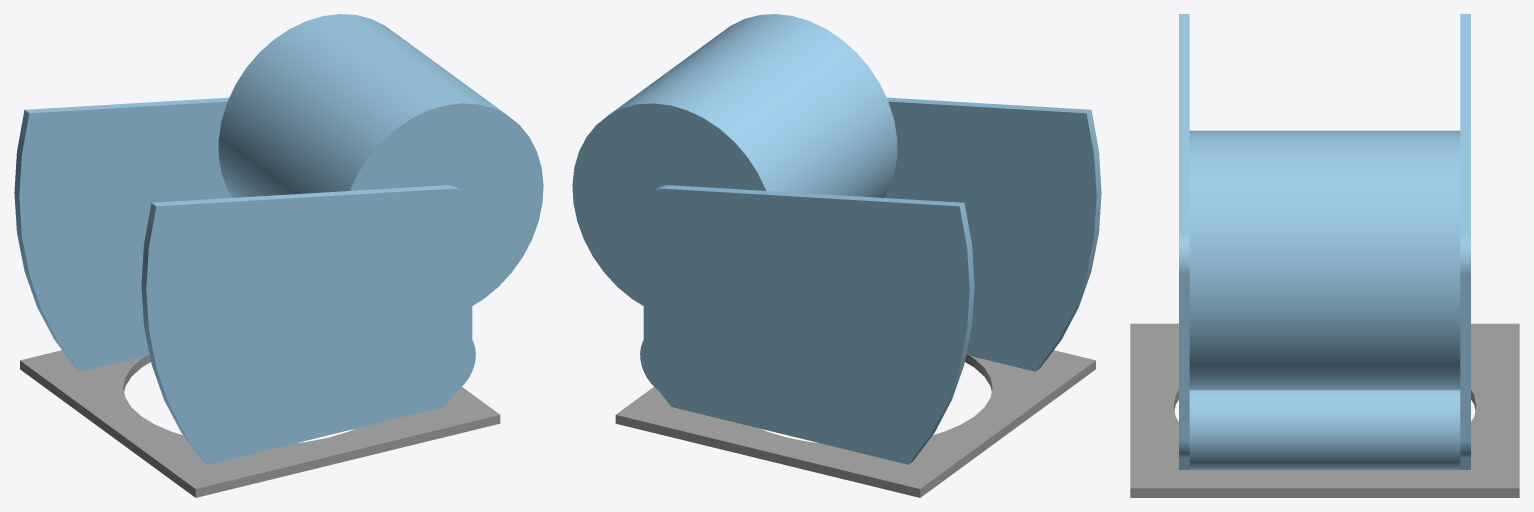
3 views of the same model, side by side, from view 1: azimuth 30°, elevation 25°; view 2: azimuth 150°, elevation 25°; view 3: azimuth 270°, elevation 25° (orthographic). The views are drawn at different scales.
Visible parts, largest first — view 1: Part 1, Part 2; view 2: Part 1, Part 2; view 3: Part 1, Part 2.
Boxes of the visible parts, <box> form: Part 1: <box>14,14,543,464</box>; Part 2: <box>20,350,500,497</box>; Part 1: <box>572,14,1101,464</box>; Part 2: <box>615,350,1095,497</box>; Part 1: <box>1179,14,1470,470</box>; Part 2: <box>1130,323,1519,497</box>.
Bounding box in the file's own units: 0.3018 × 0.219 × 0.2286.
